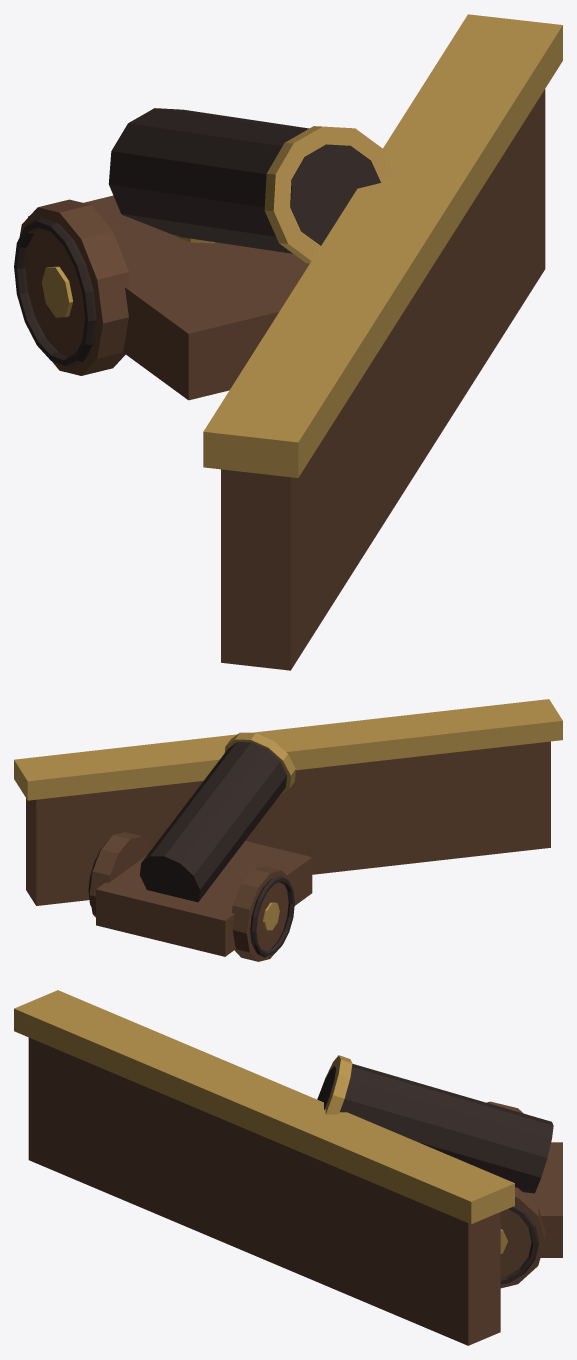
Rendered from PirateCove_CannonBank_Standard.glb.
3 views of the same model, one above another, from view 1: azimuth 30°, elevation 25°; view 2: azimuth 150°, elevation 25°; view 3: azimuth 270°, elevation 25° (orthographic). The views are drawn at different scales.
Visible parts, largest first — view 1: PirateCove_CannonBank_Standard; view 2: PirateCove_CannonBank_Standard; view 3: PirateCove_CannonBank_Standard.
Part boxes in pixels (box(x1,y1,x2,y2)): PirateCove_CannonBank_Standard: box(14, 14, 562, 670); PirateCove_CannonBank_Standard: box(14, 699, 562, 961); PirateCove_CannonBank_Standard: box(14, 990, 562, 1345).
Size of the model in its own units: 2.42 by 0.9942 by 2.65.
